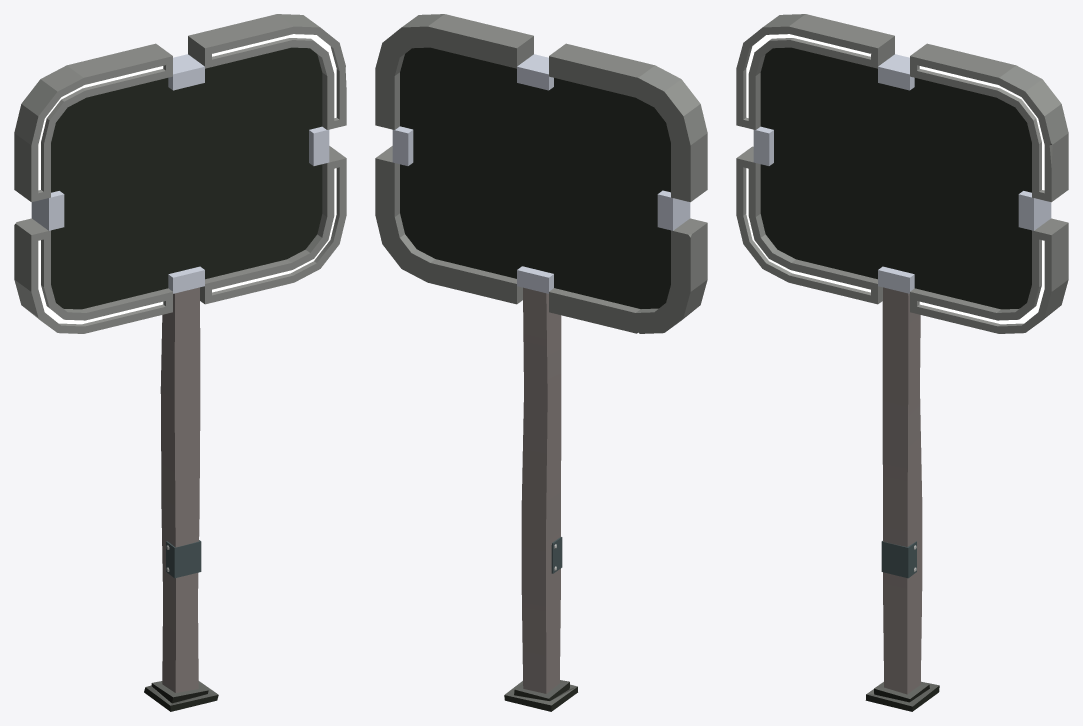
File: SignA.glb
3 views of the same model, side by side, from view 1: azimuth 30°, elevation 25°; view 2: azimuth 150°, elevation 25°; view 3: azimuth 330°, elevation 25° (orthographic).
Parts seen in each view (by area): view 1: TallDisplaySign; view 2: TallDisplaySign; view 3: TallDisplaySign.
Boxes of the visible parts, box(x1,y1,x2,y2) form: TallDisplaySign: box(14, 14, 346, 711); TallDisplaySign: box(375, 14, 707, 711); TallDisplaySign: box(736, 14, 1068, 711).
Size of what is drawn, in the model's own units: 2.53 by 4.98 by 0.393.
Materials: 1 (1 with a texture image).
